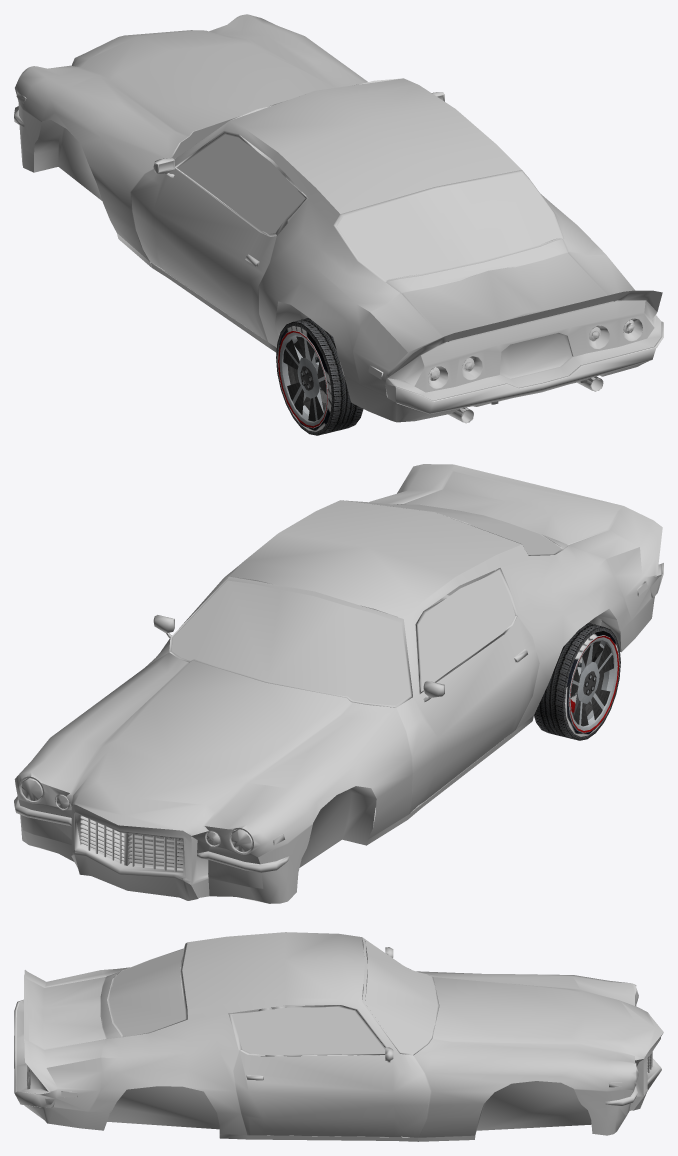
The model's file is 1972 sedan (1).fbx.
3 renders of one model, top to bottom at view 1: azimuth 30°, elevation 25°; view 2: azimuth 150°, elevation 25°; view 3: azimuth 270°, elevation 25°, orthographic. The views are drawn at different scales.
Parts seen in each view (by area): view 1: 1972 sedan body, 1972 sedan glass, 1972 sedan interior, 1972 sedan tire; view 2: 1972 sedan body, 1972 sedan glass, 1972 sedan interior, 1972 sedan tire; view 3: 1972 sedan body, 1972 sedan glass, 1972 sedan interior.
Part boxes in pixels (bbox=[...]): 1972 sedan body: bbox=[15, 14, 662, 422]; 1972 sedan glass: bbox=[172, 84, 561, 280]; 1972 sedan interior: bbox=[14, 78, 663, 423]; 1972 sedan tire: bbox=[276, 318, 363, 435]; 1972 sedan body: bbox=[14, 464, 662, 903]; 1972 sedan glass: bbox=[171, 500, 561, 705]; 1972 sedan interior: bbox=[14, 504, 663, 878]; 1972 sedan tire: bbox=[534, 623, 620, 740]; 1972 sedan body: bbox=[16, 932, 663, 1137]; 1972 sedan glass: bbox=[109, 939, 437, 1054]; 1972 sedan interior: bbox=[14, 937, 661, 1141].
Size of the model in its own units: 256 by 180 by 652.
